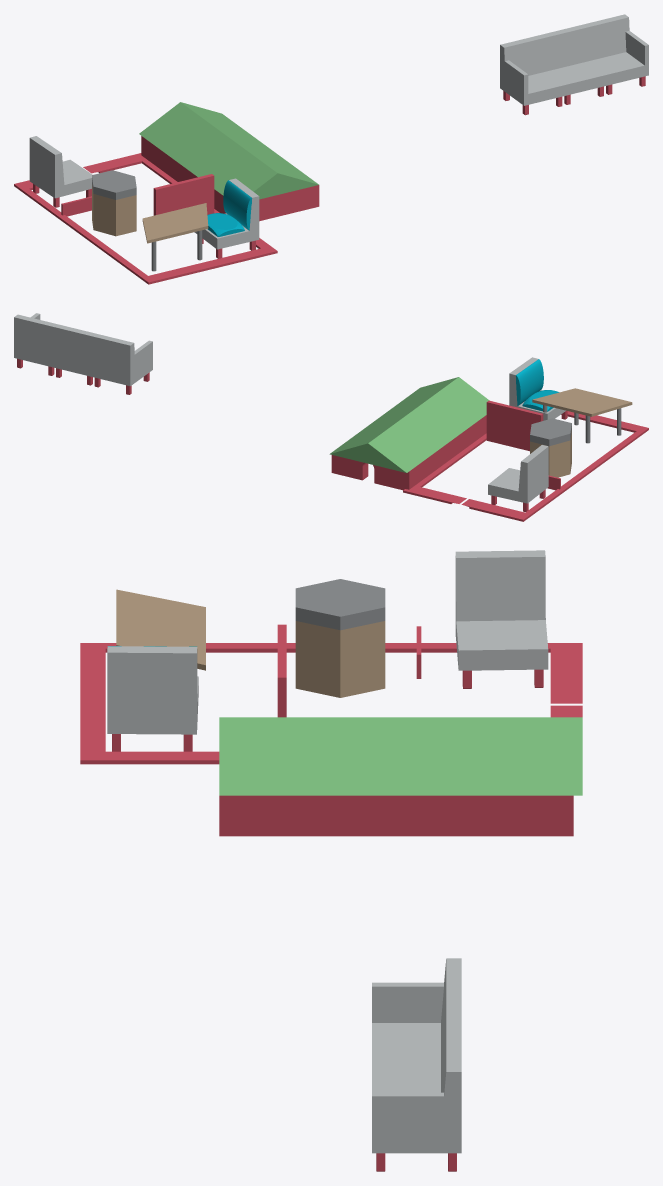
File: lucashouse.fbx
3 renders of one model, top to bottom at view 1: azimuth 30°, elevation 25°; view 2: azimuth 150°, elevation 25°; view 3: azimuth 270°, elevation 25°, orthographic. The views are drawn at different scales.
Parts seen in each view (by area): view 1: Mesh_Mesh_head_geo.001_lambert2SG.001; view 2: Mesh_Mesh_head_geo.001_lambert2SG.001; view 3: Mesh_Mesh_head_geo.001_lambert2SG.001.
Part boxes in pixels (x1=…): Mesh_Mesh_head_geo.001_lambert2SG.001: x1=14, y1=14, x2=648, y2=284; Mesh_Mesh_head_geo.001_lambert2SG.001: x1=14, y1=313, x2=648, y2=521; Mesh_Mesh_head_geo.001_lambert2SG.001: x1=80, y1=550, x2=582, y2=1171.
Size of the model in its own units: 27800 by 2500 by 11200.
